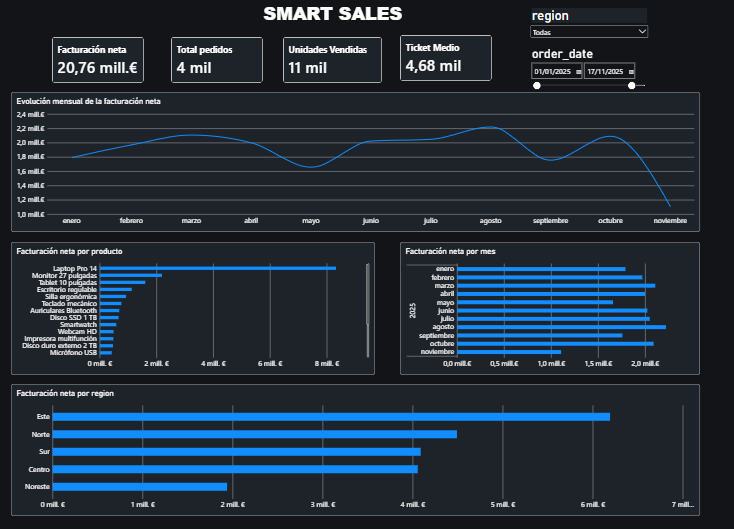

Layout of this report page (visuals, bound fields, positions):
{"tool":"powerbi","page":{"name":"Resumen ejecutivo de ventas","canvas":[3840,2160],"ordinal":0},"visuals":[{"type":"cardVisual","fields":{"Data":["orders.Total pedidos"]},"box":[530.3,130.3,278.8,139.4],"z":0},{"type":"cardVisual","fields":{"Data":["order_items.Unidades Vendidas"]},"box":[869.7,130.3,300,139.4],"z":1000},{"type":"cardVisual","fields":{"Data":["customers.Ticket Medio"]},"box":[1224.2,124.2,278.8,139.4],"z":2000},{"type":"lineChart","title":"Evolución mensual de la facturación neta","fields":{"Category":["orders.order_date.Variation.Jerarquía de fechas.Año","orders.order_date.Variation.Jerarquía de fechas.Mes"],"Y":["customers.Facturación neta"]},"box":[45.5,297,2087.9,424.2],"z":3000},{"type":"clusteredBarChart","title":"Facturación neta por producto","fields":{"Category":["products.product_name"],"Y":["customers.Facturación neta"]},"box":[45.5,751.5,1103,403],"z":4000},{"type":"clusteredBarChart","fields":{"Category":["customers.region"],"Y":["customers.Facturación neta"]},"box":[45.5,1181.8,2087.9,400],"z":5000},{"type":"clusteredBarChart","title":"Facturación neta por mes","fields":{"Category":["orders.order_date.Variation.Jerarquía de fechas.Año","orders.order_date.Variation.Jerarquía de fechas.Mes"],"Y":["customers.Facturación neta"]},"box":[1224.2,751.5,909.1,403],"z":6000},{"type":"slicer","fields":{"Values":["customers.region"]},"box":[1615.2,42.4,365.8,150],"z":7000},{"type":"slicer","fields":{"Values":["orders.order_date"]},"box":[1615.2,157.6,366.7,224.2],"z":8000},{"type":"cardVisual","fields":{"Data":["customers.Facturación neta"]},"box":[169.7,130.3,278.8,139.4],"z":9000},{"type":"textbox","box":[706.1,21.2,539.4,97],"z":10000}]}

Visuals, with their boxes on the page's 3840x2160 design canvas (x1, y1, x2, y2). These are canvas units, not pixel positions in the 734x529 screenshot, which may show the page scaled, cropped or inside an application window:
cardVisual - orders.Total pedidos: bbox=(530, 130, 809, 270)
cardVisual - order_items.Unidades Vendidas: bbox=(870, 130, 1170, 270)
cardVisual - customers.Ticket Medio: bbox=(1224, 124, 1503, 264)
"Evolución mensual de la facturación neta" lineChart: bbox=(46, 297, 2133, 721)
"Facturación neta por producto" clusteredBarChart: bbox=(46, 752, 1148, 1154)
clusteredBarChart - customers.region x customers.Facturación neta: bbox=(46, 1182, 2133, 1582)
"Facturación neta por mes" clusteredBarChart: bbox=(1224, 752, 2133, 1154)
slicer - customers.region: bbox=(1615, 42, 1981, 192)
slicer - orders.order_date: bbox=(1615, 158, 1982, 382)
cardVisual - customers.Facturación neta: bbox=(170, 130, 448, 270)
textbox: bbox=(706, 21, 1246, 118)
